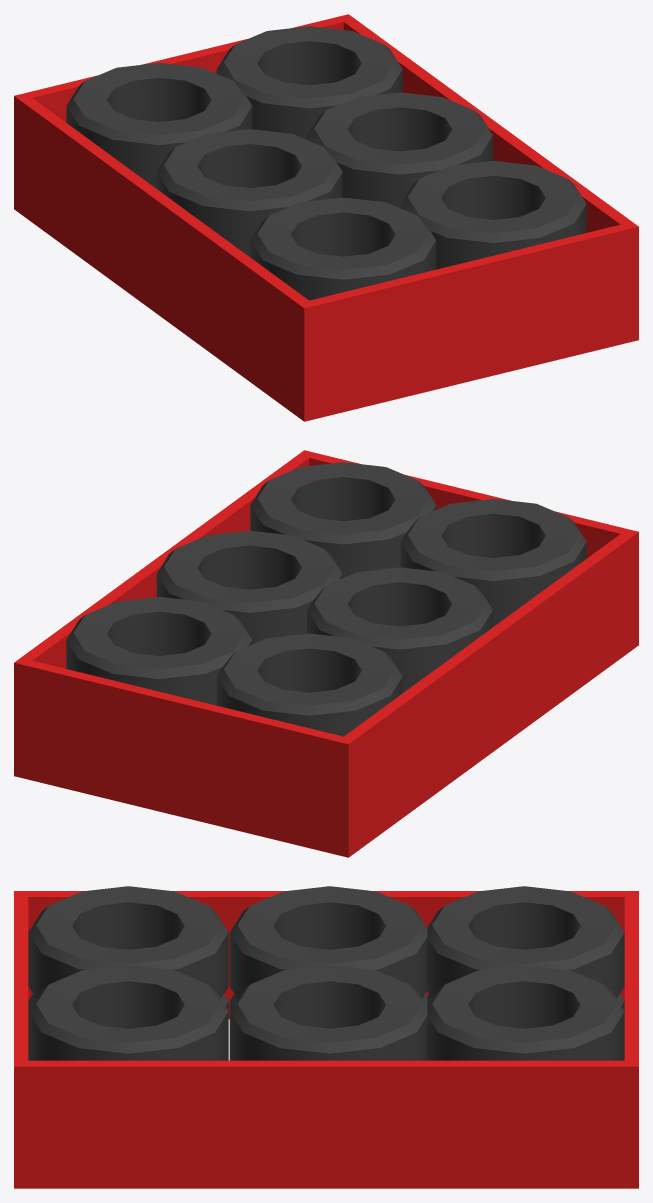
Rendered from TireWall_2_A.fbx.
3 renders of one model, top to bottom at view 1: azimuth 30°, elevation 25°; view 2: azimuth 150°, elevation 25°; view 3: azimuth 270°, elevation 25°, orthographic. The views are drawn at different scales.
Visible parts, largest first — view 1: TireWall_2_A; view 2: TireWall_2_A; view 3: TireWall_2_A.
Part boxes in pixels (box(x1,y1,x2,y2)): TireWall_2_A: box(14, 14, 638, 421); TireWall_2_A: box(14, 450, 638, 857); TireWall_2_A: box(14, 886, 638, 1188).
Size of the model in its own units: 182 by 66.08 by 273.
